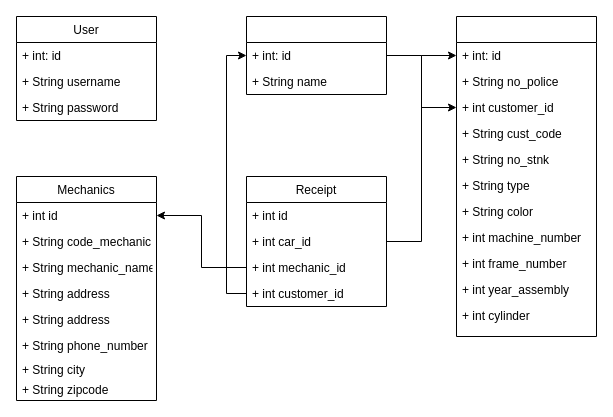
Some shapes in this 613 by 417 pixel diagram are drawn without their labels. The shapes that lost their labels are listed below. From the top down, each one's box as (x1, y1, x2, y2) in pixels, then its label:
(246, 16, 386, 94): Customer
(456, 16, 596, 336): Car
